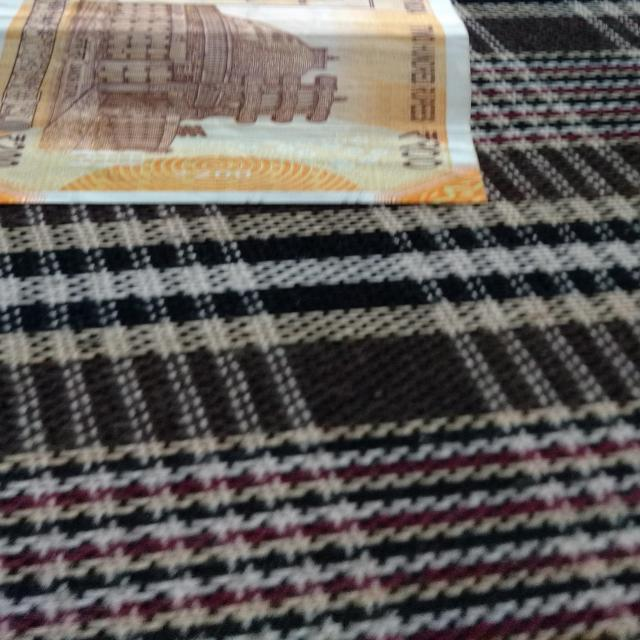Currency: (5, 0, 468, 210)
